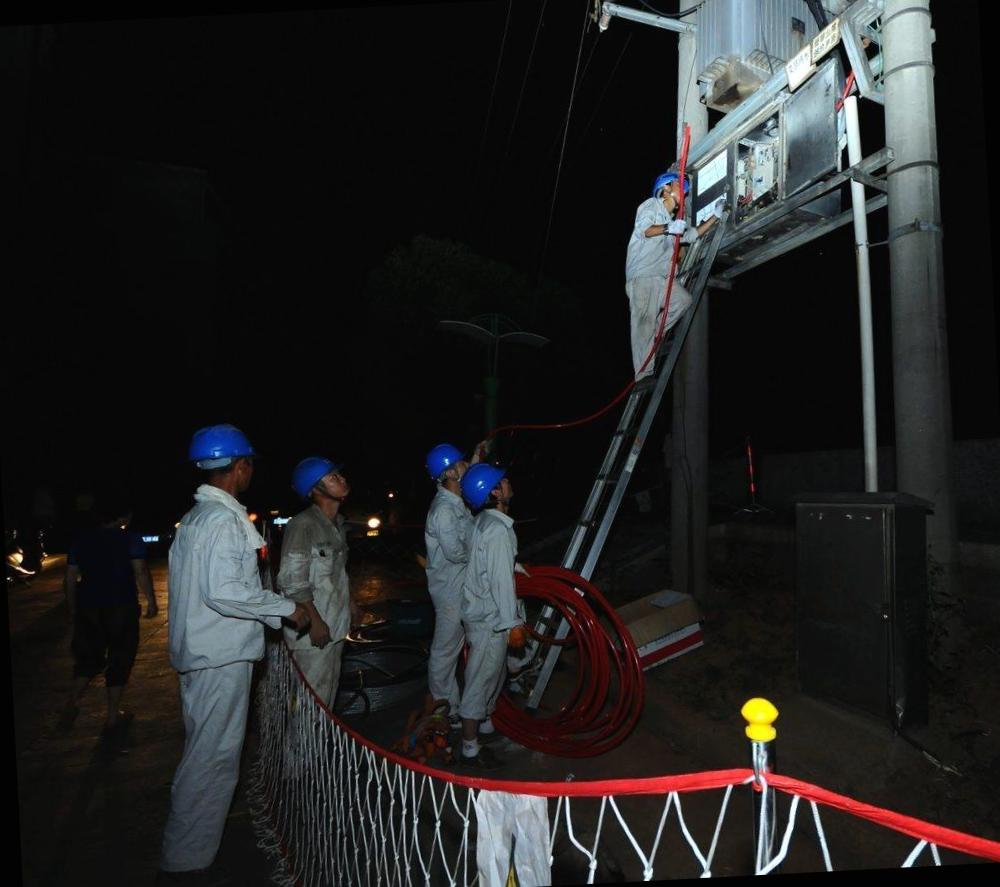helmet: (188, 421, 261, 490), (285, 447, 351, 509), (458, 452, 512, 520)
no_vest: (156, 478, 288, 684)
person: (139, 421, 296, 887), (442, 453, 534, 744), (263, 447, 366, 686), (612, 162, 704, 380), (411, 449, 478, 712)
